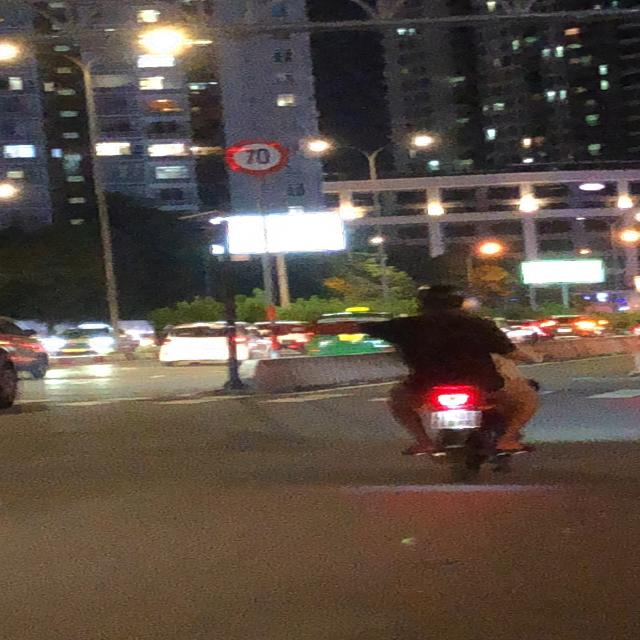Bien bao toc do toi da cho phep: (223, 135, 289, 175)
